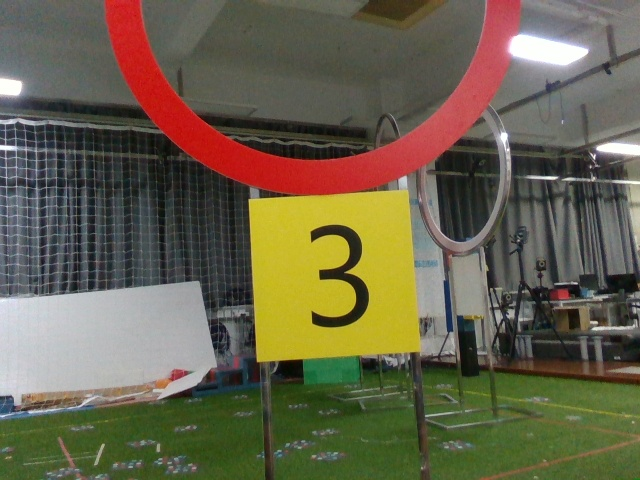target: (254, 200, 414, 352)
